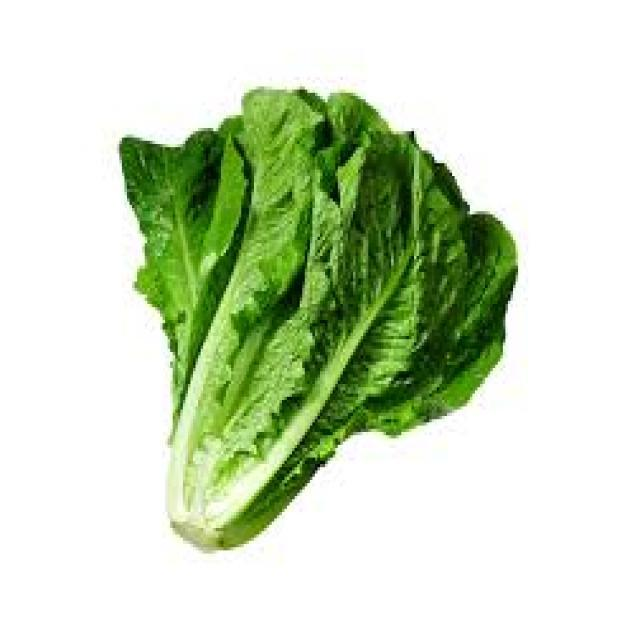Lettuce: (120, 87, 520, 563)
